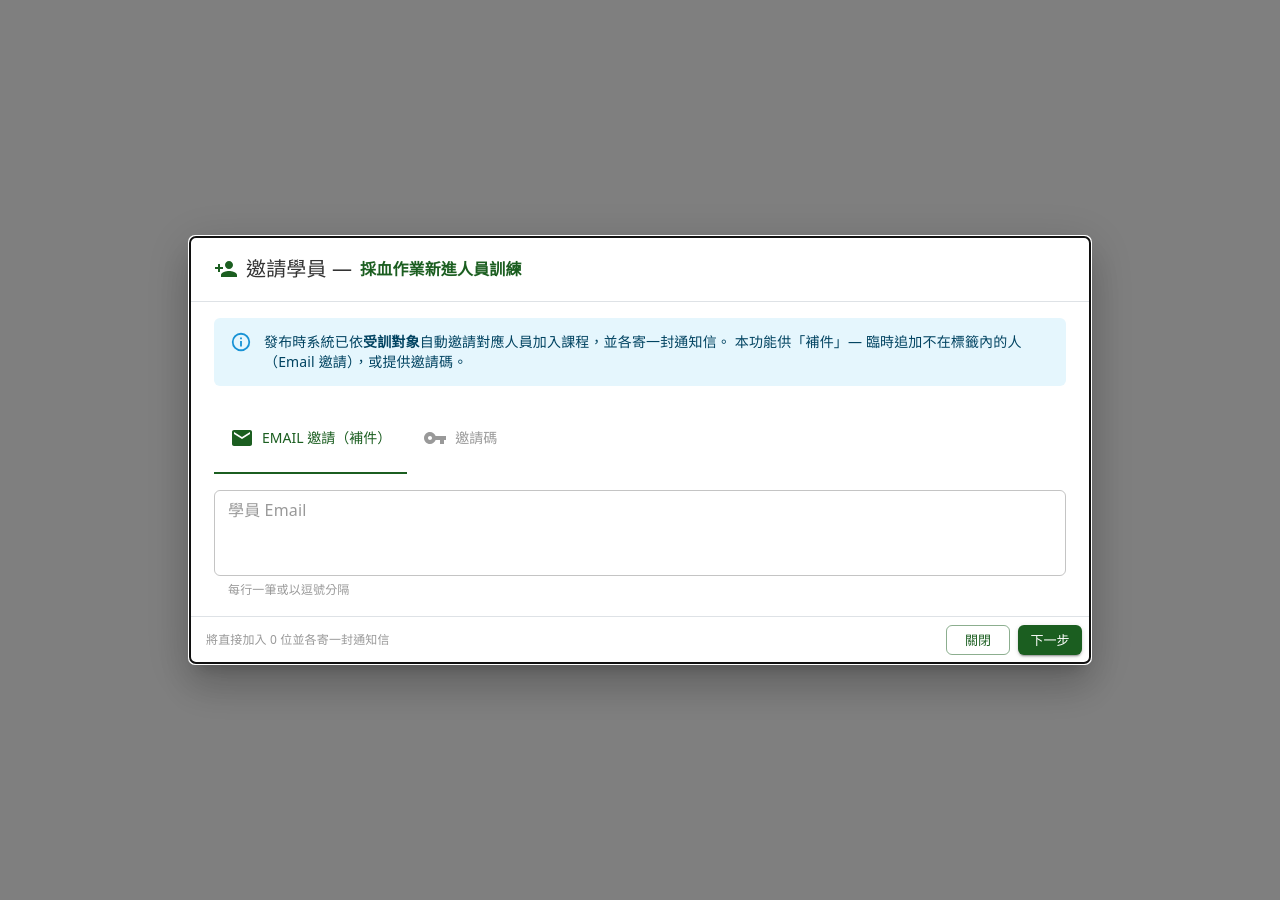
Test: InviteStudentsDialog：Email 邀請流程 › 輸入 Email 後按下一步顯示唯讀預覽
The width and height of the screenshot is (1280, 900).
Type "a@x.gov.tw,b@x.gov.tw" into the text box labelled "學員 Email" at (640, 533), box [228, 498, 1052, 567]
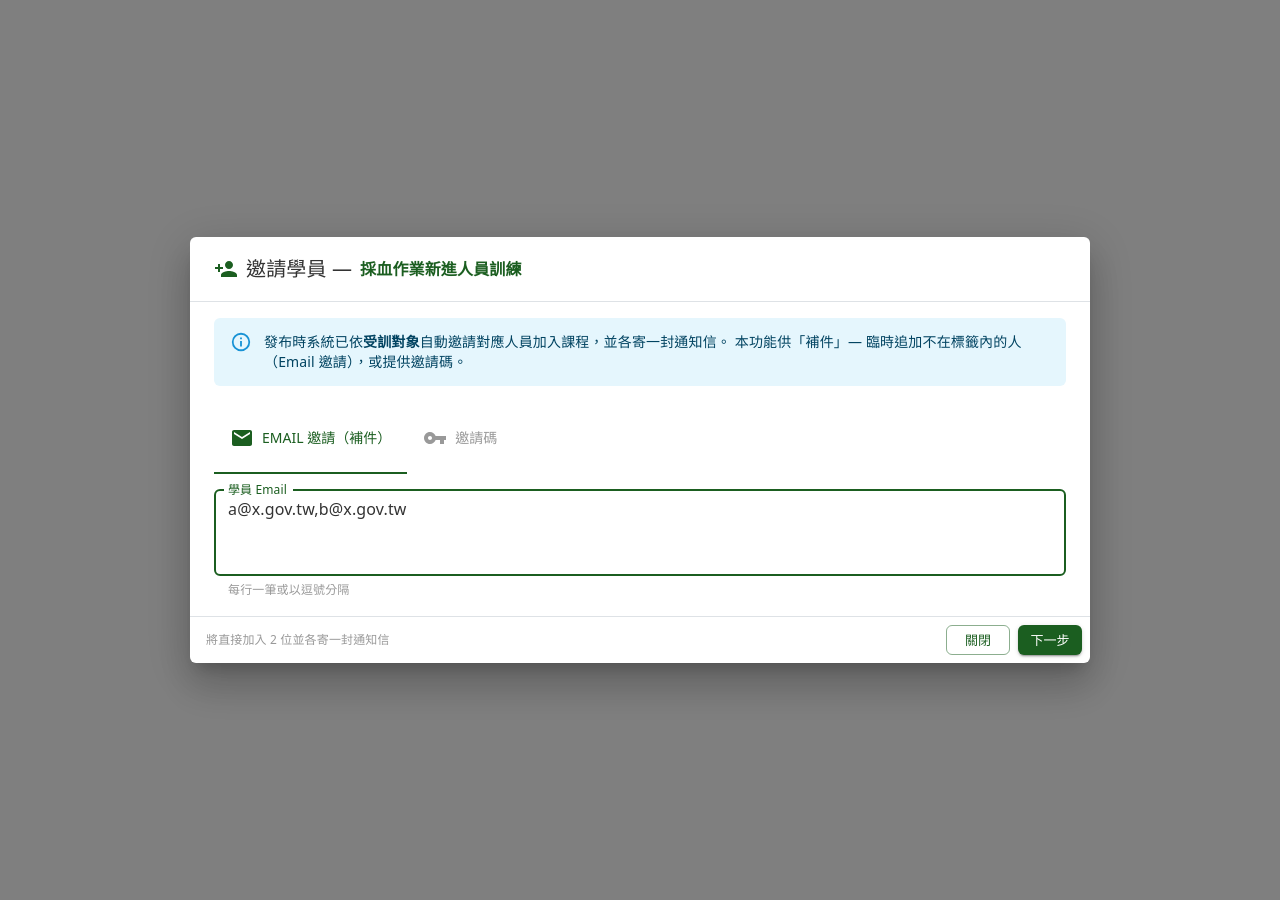
Click the button "下一步" at (1050, 640), box [1018, 625, 1082, 655]
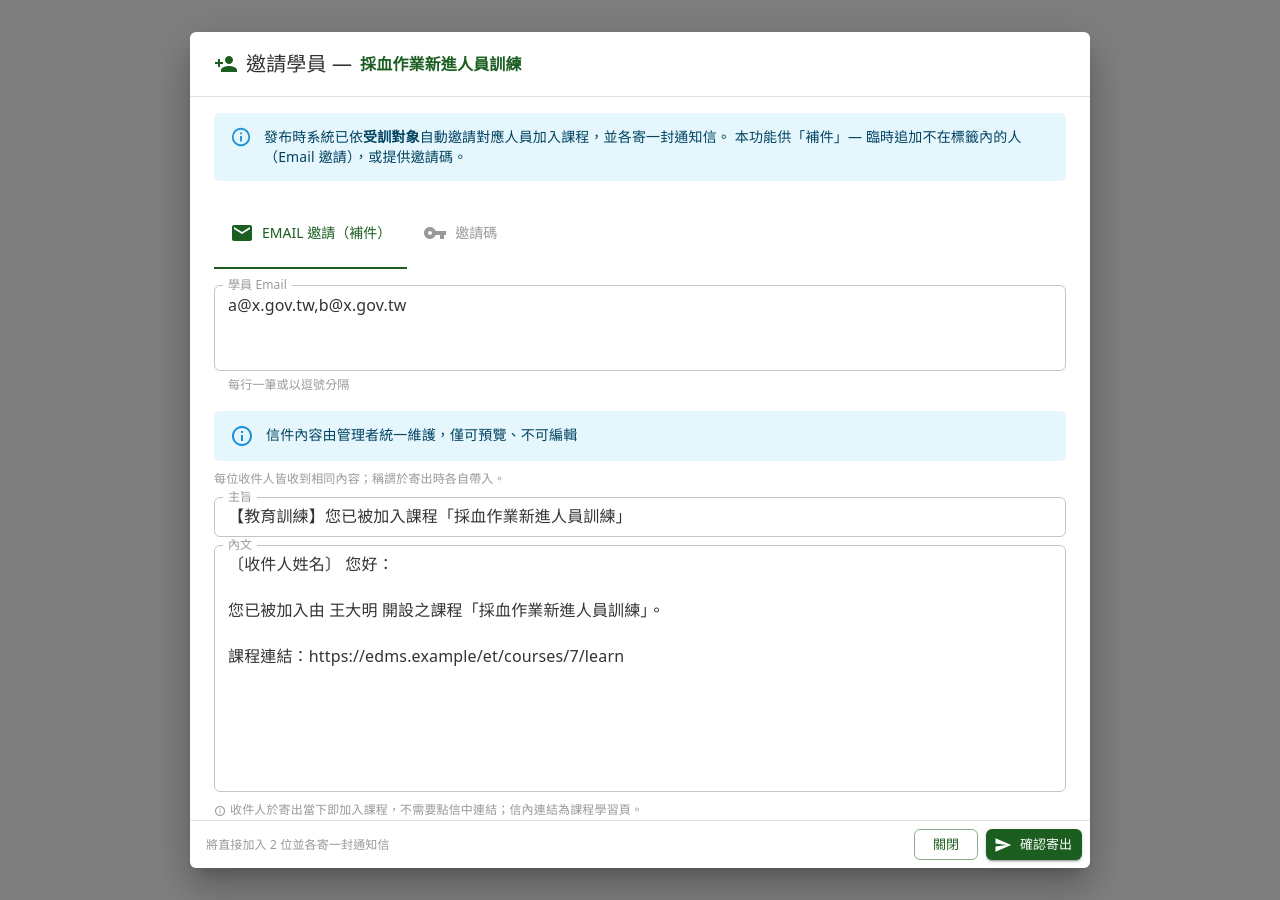
Expected: the text "信件內容由管理者統一維護，僅可預覽、不可編輯" is shown, [266, 425, 577, 444]
Expected: the text "每位收件人皆收到相同內容；稱謂於寄出時各自帶入。" is shown, [214, 470, 506, 487]
Expected: the text box labelled "內文" holds "〔收件人姓名〕", [228, 553, 1052, 783]
